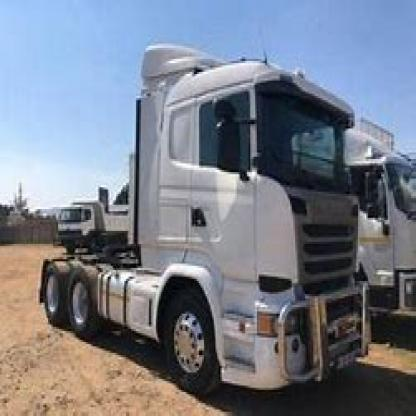dump_truck: (38, 20, 375, 392)
